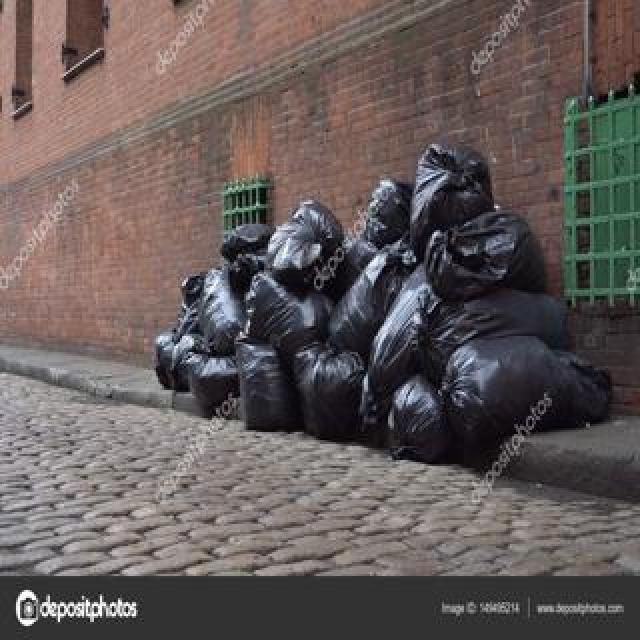high trash: (155, 145, 608, 467)
